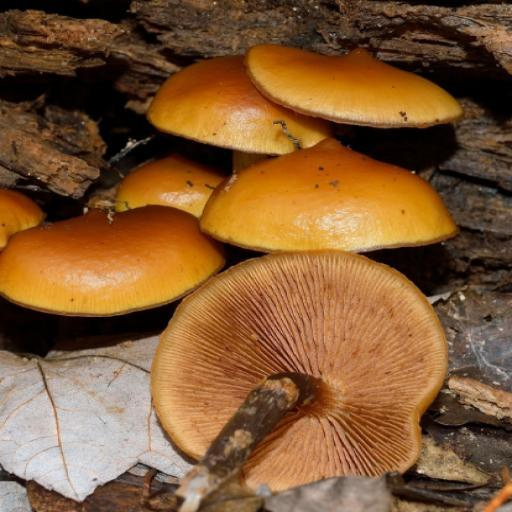mushroom: (7, 41, 484, 492)
